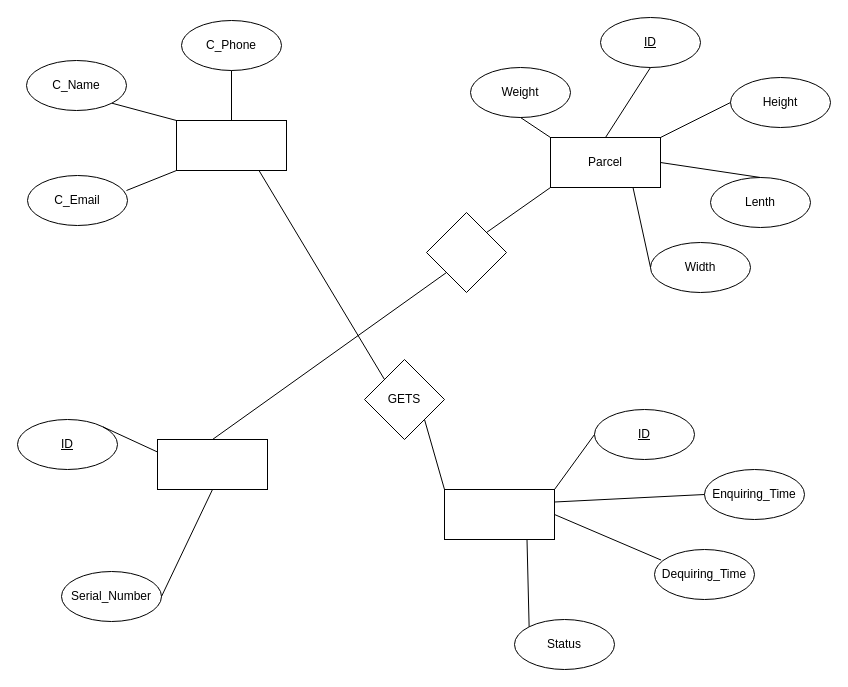
The diagram is 848 pixels wide and 687 high, and some of its shapes have lost their labels. Each missing label, with the centre of its shape:
"ADDED TO" goes at pixel 466 252.
"Customer" goes at pixel 231 145.
"Depot" goes at pixel 212 464.
"Queue" goes at pixel 499 514.
